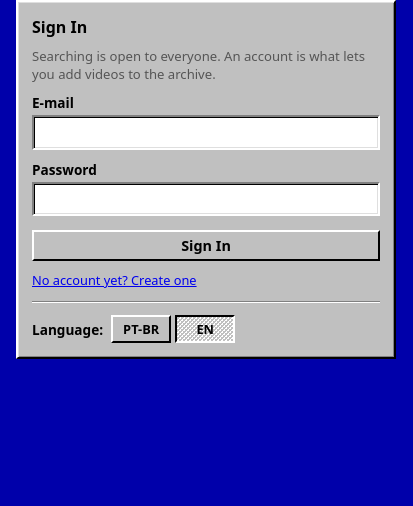
Test: AuthPanel › should say before the account is created that it starts with one video
Click the button "No account yet? Create one". click: (114, 280)
box: [32,271,197,289]
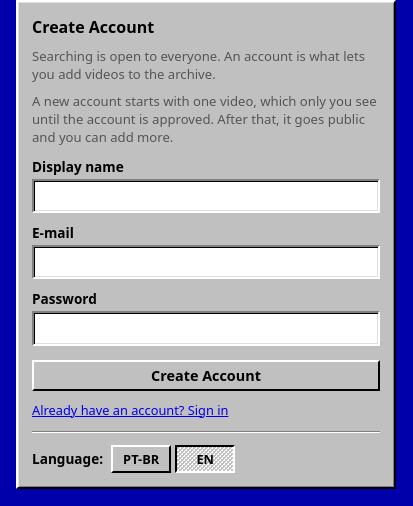
Expected: the text "A new account starts with one video" is shown, [32,92,377,146]
